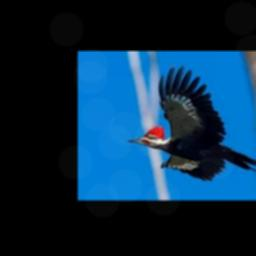Woodpecker: (128, 65, 256, 181)
